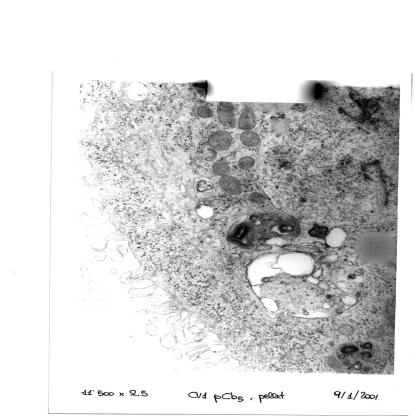mitochondria: (204, 128, 234, 153), (216, 174, 244, 196), (216, 102, 239, 128), (237, 108, 257, 131), (239, 131, 262, 150), (193, 103, 215, 120), (236, 155, 257, 172), (212, 158, 231, 176), (336, 321, 357, 337), (366, 327, 388, 340), (247, 192, 268, 204)
